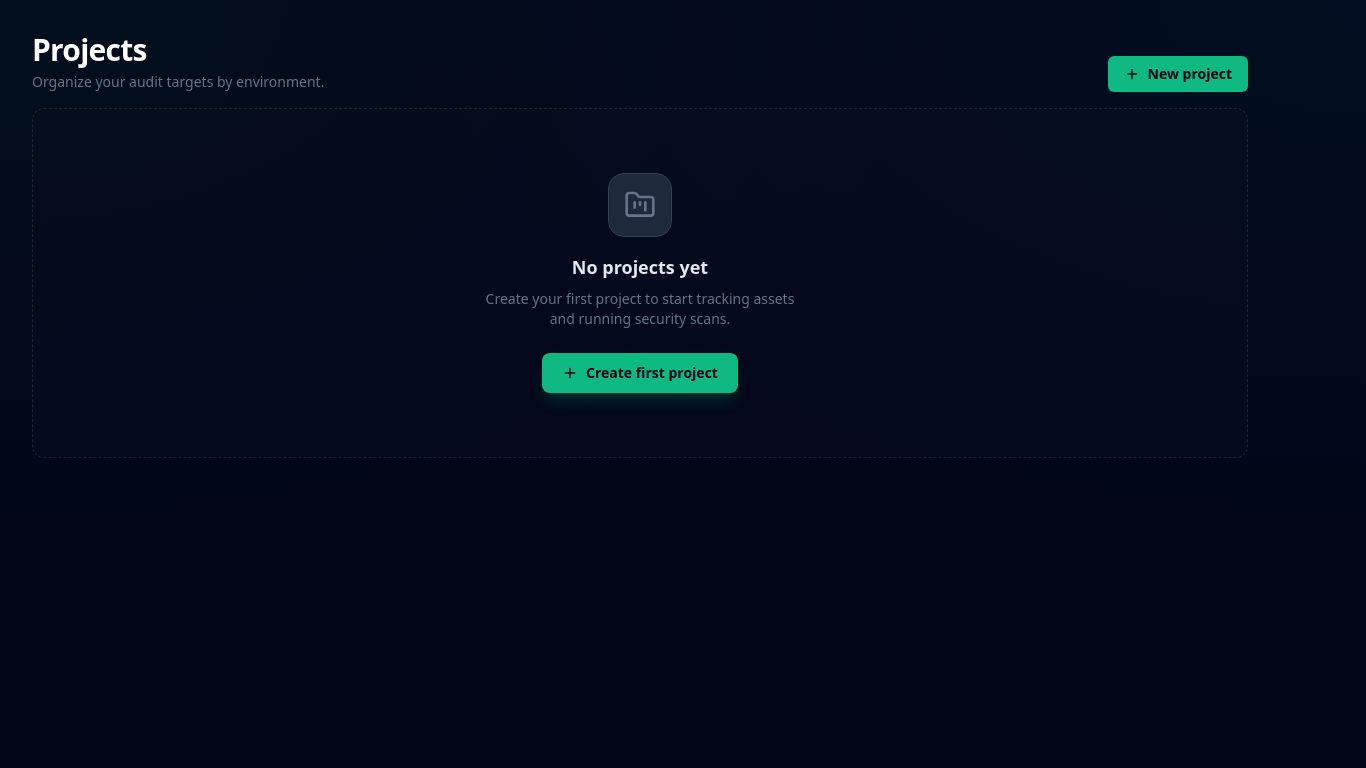
Projects — new project modal › opens modal when "New project" button clicked
The width and height of the screenshot is (1366, 768).
expect the text "No projects yet" is shown: met, box [572, 255, 708, 279]
Click the first "New project" button
Click the button "New project": (1178, 74) [1108, 56, 1248, 92]
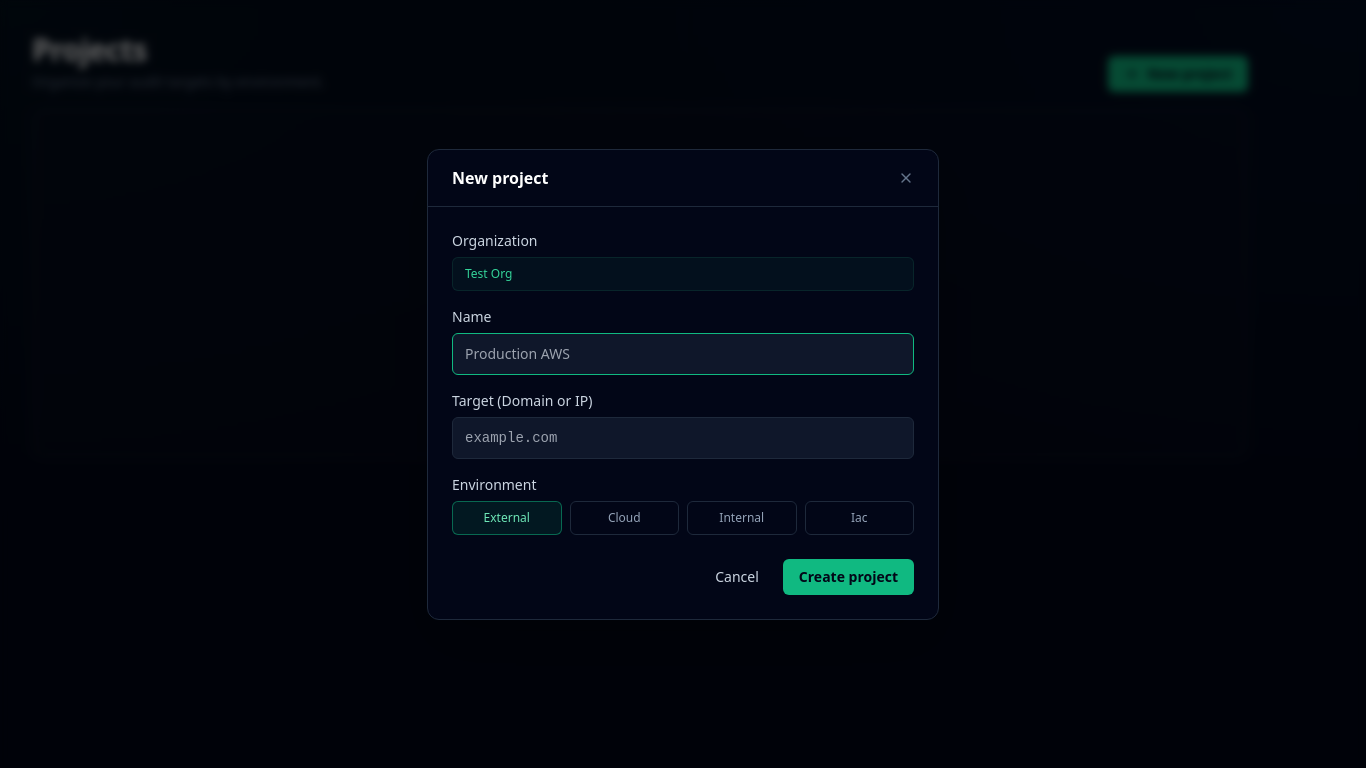
expect the heading "New project" is shown: met, box [452, 166, 548, 190]
